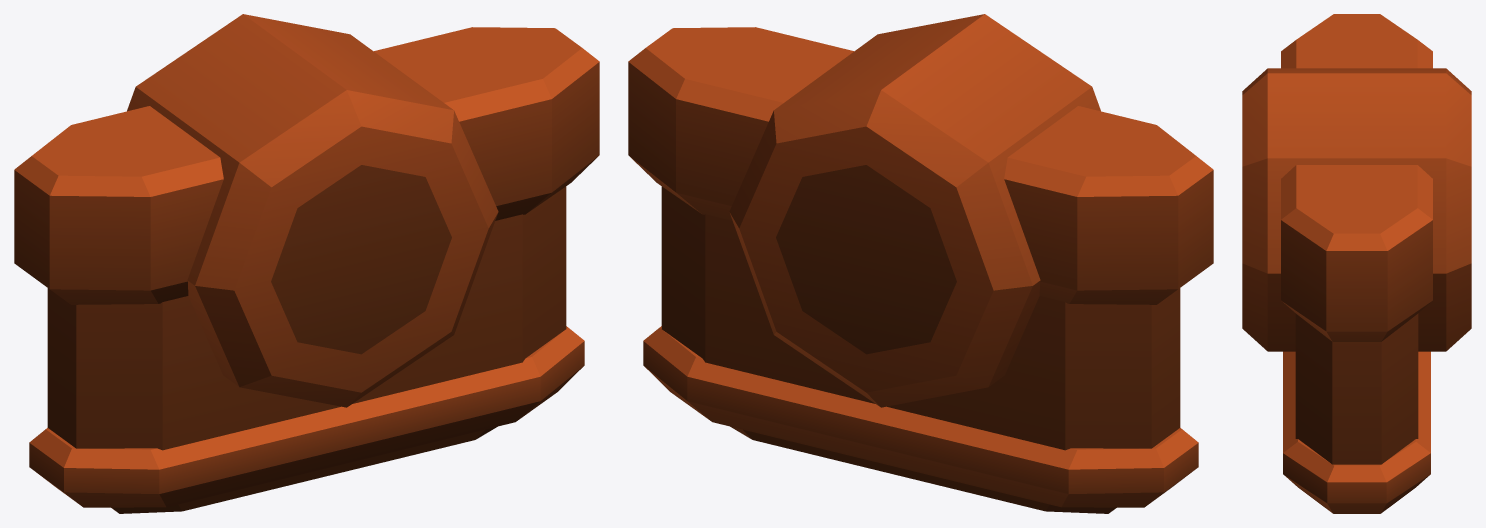
Rendered from decor_009.fbx.
3 renders of one model, left to right at view 1: azimuth 30°, elevation 25°; view 2: azimuth 150°, elevation 25°; view 3: azimuth 270°, elevation 25°, orthographic. The views are drawn at different scales.
Visible parts, largest first — view 1: decor.009; view 2: decor.009; view 3: decor.009.
Part boxes in pixels (x1,y1,x2,y2): decor.009: [14, 14, 599, 513]; decor.009: [628, 14, 1213, 513]; decor.009: [1242, 14, 1471, 513].
Size of the model in its own units: 23.03 by 16.43 by 9.66.
